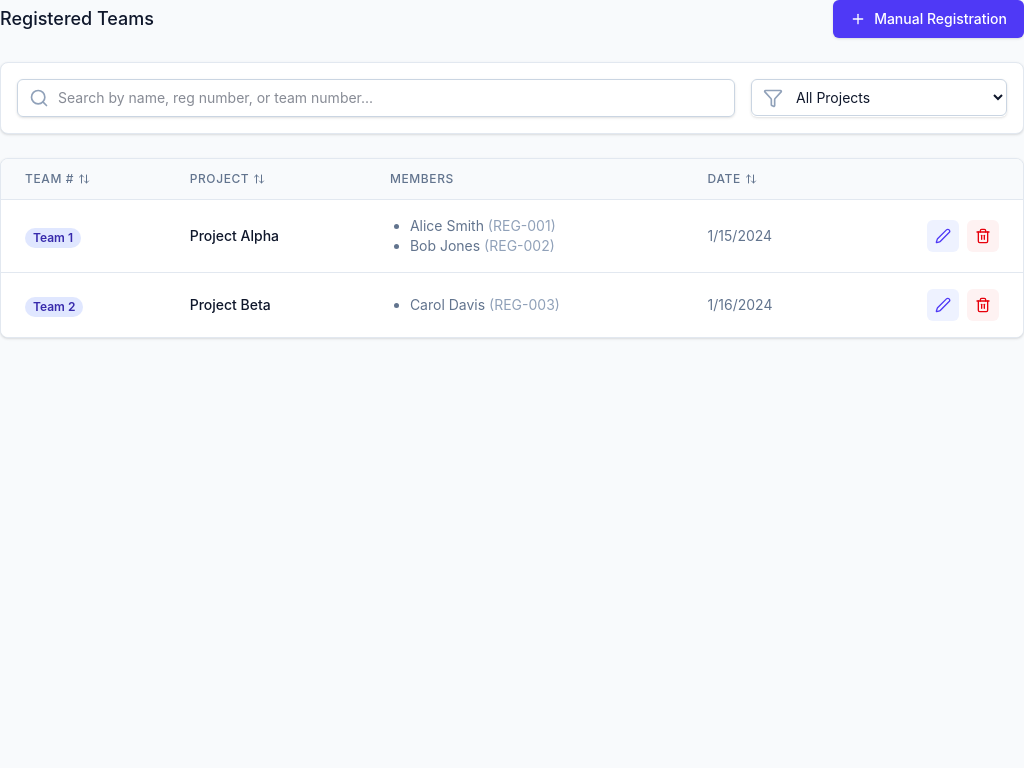
Test: TeamsPanel › Manual Registration button opens modal
Check: the text "Team 1" is shown, box [25,228,81,248]
Click the button "Manual Registration" at (929, 19), box [833,0,1023,38]
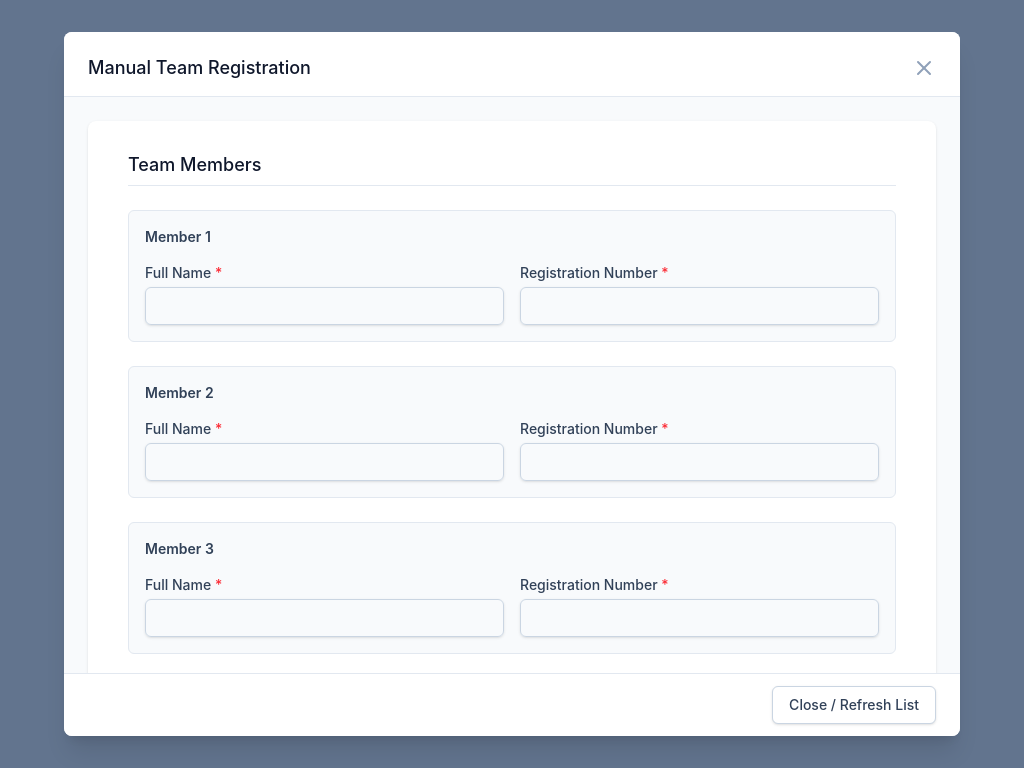
Check: the heading "Manual Team Registration" is shown, box [88,56,311,80]
